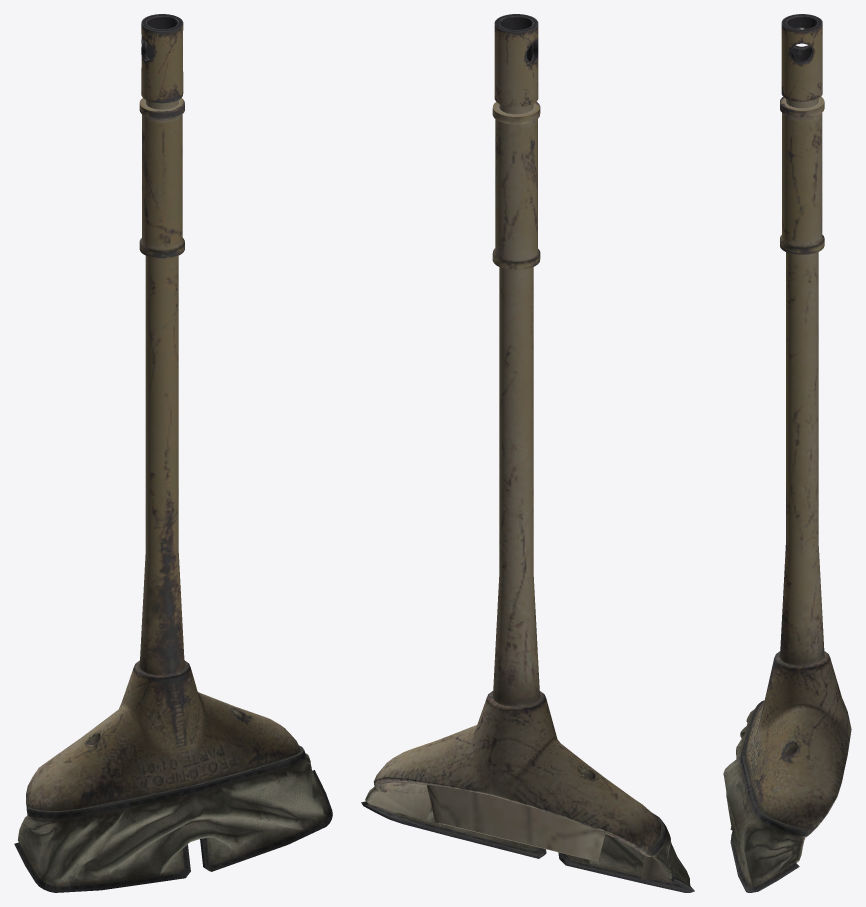
Rendered from Gun_01.glb.
3 views of the same model, side by side, from view 1: azimuth 30°, elevation 25°; view 2: azimuth 150°, elevation 25°; view 3: azimuth 270°, elevation 25° (orthographic). The views are drawn at different scales.
Parts seen in each view (by area): view 1: set_0_group_0; view 2: set_0_group_0; view 3: set_0_group_0.
Part boxes in pixels (box(x1,y1,x2,y2)): set_0_group_0: box(14, 14, 332, 892); set_0_group_0: box(361, 14, 694, 892); set_0_group_0: box(723, 14, 851, 892).
Size of the model in its own units: 1.51 by 3.97 by 0.5663.
Materials: 1 (1 with a texture image).
